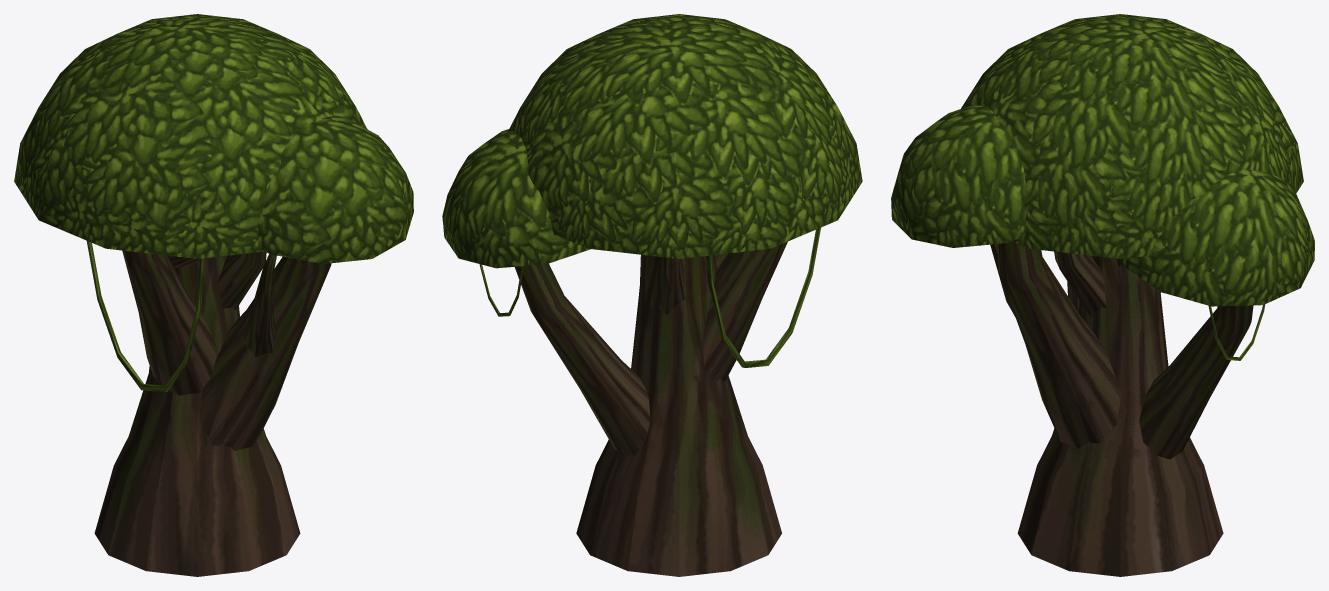
The model's file is OldTreeSmall_Geo.fbx.
3 renders of one model, left to right at view 1: azimuth 30°, elevation 25°; view 2: azimuth 150°, elevation 25°; view 3: azimuth 270°, elevation 25°, orthographic.
Visible parts, largest first — view 1: OldTreeSmall_Geo; view 2: OldTreeSmall_Geo; view 3: OldTreeSmall_Geo.
Part boxes in pixels (bbox=[...]): OldTreeSmall_Geo: bbox=[14, 14, 413, 576]; OldTreeSmall_Geo: bbox=[442, 14, 862, 576]; OldTreeSmall_Geo: bbox=[891, 14, 1314, 576].
Bounding box in the file's own units: 254 × 362 × 278.
